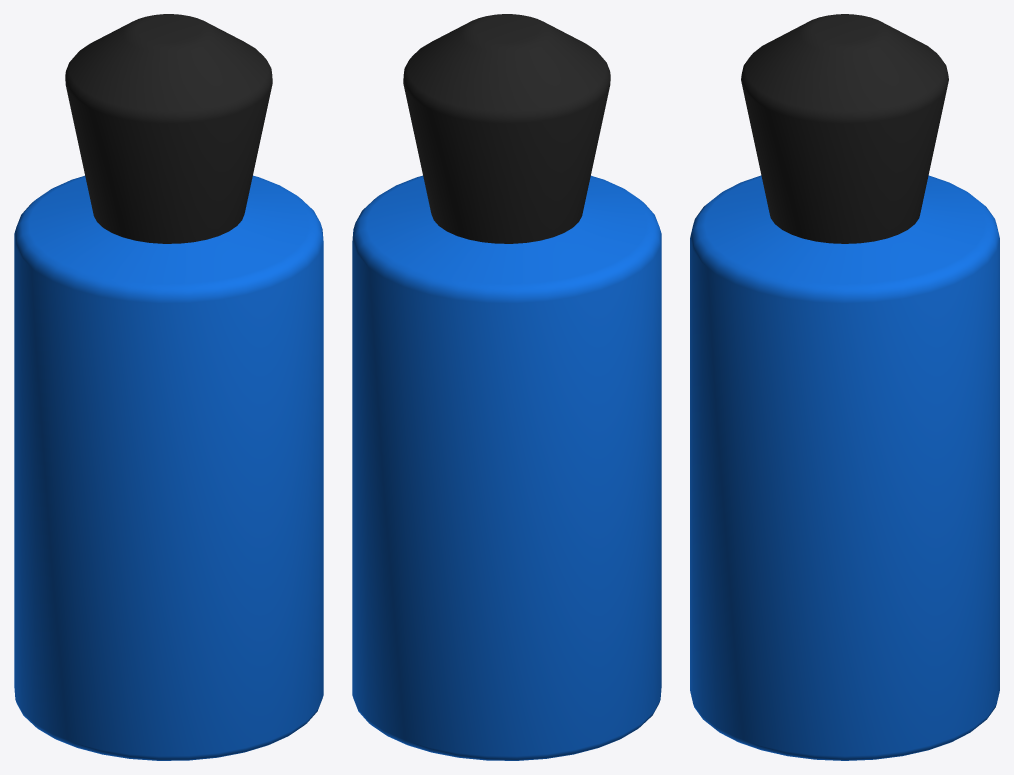
Rendered from Bottle.fbx.
3 views of the same model, side by side, from view 1: azimuth 30°, elevation 25°; view 2: azimuth 150°, elevation 25°; view 3: azimuth 270°, elevation 25° (orthographic).
Visible parts, largest first — view 1: Bottle; view 2: Bottle; view 3: Bottle.
Boxes of the visible parts, <box> form: Bottle: <box>14,14,323,760</box>; Bottle: <box>352,14,661,760</box>; Bottle: <box>690,14,999,760</box>.
Size of the model in its own units: 0.419 by 0.9976 by 0.419.
